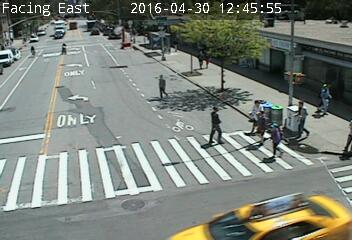neg: (72, 102, 95, 132), (273, 57, 295, 87), (304, 25, 326, 54), (6, 67, 27, 96), (23, 100, 44, 128), (265, 17, 282, 39), (240, 53, 256, 74), (235, 19, 250, 39), (109, 49, 124, 68), (183, 26, 196, 44), (83, 21, 95, 38), (55, 18, 67, 34), (220, 59, 231, 74), (185, 76, 195, 90), (182, 58, 191, 70), (68, 19, 76, 30), (226, 80, 233, 90), (238, 87, 245, 96), (34, 21, 40, 29), (15, 24, 21, 31)
pos: (287, 99, 315, 137), (202, 105, 230, 141), (312, 80, 338, 114), (265, 123, 290, 156), (154, 71, 175, 100), (203, 46, 219, 67), (56, 41, 68, 56), (130, 28, 140, 42), (29, 44, 38, 56)
